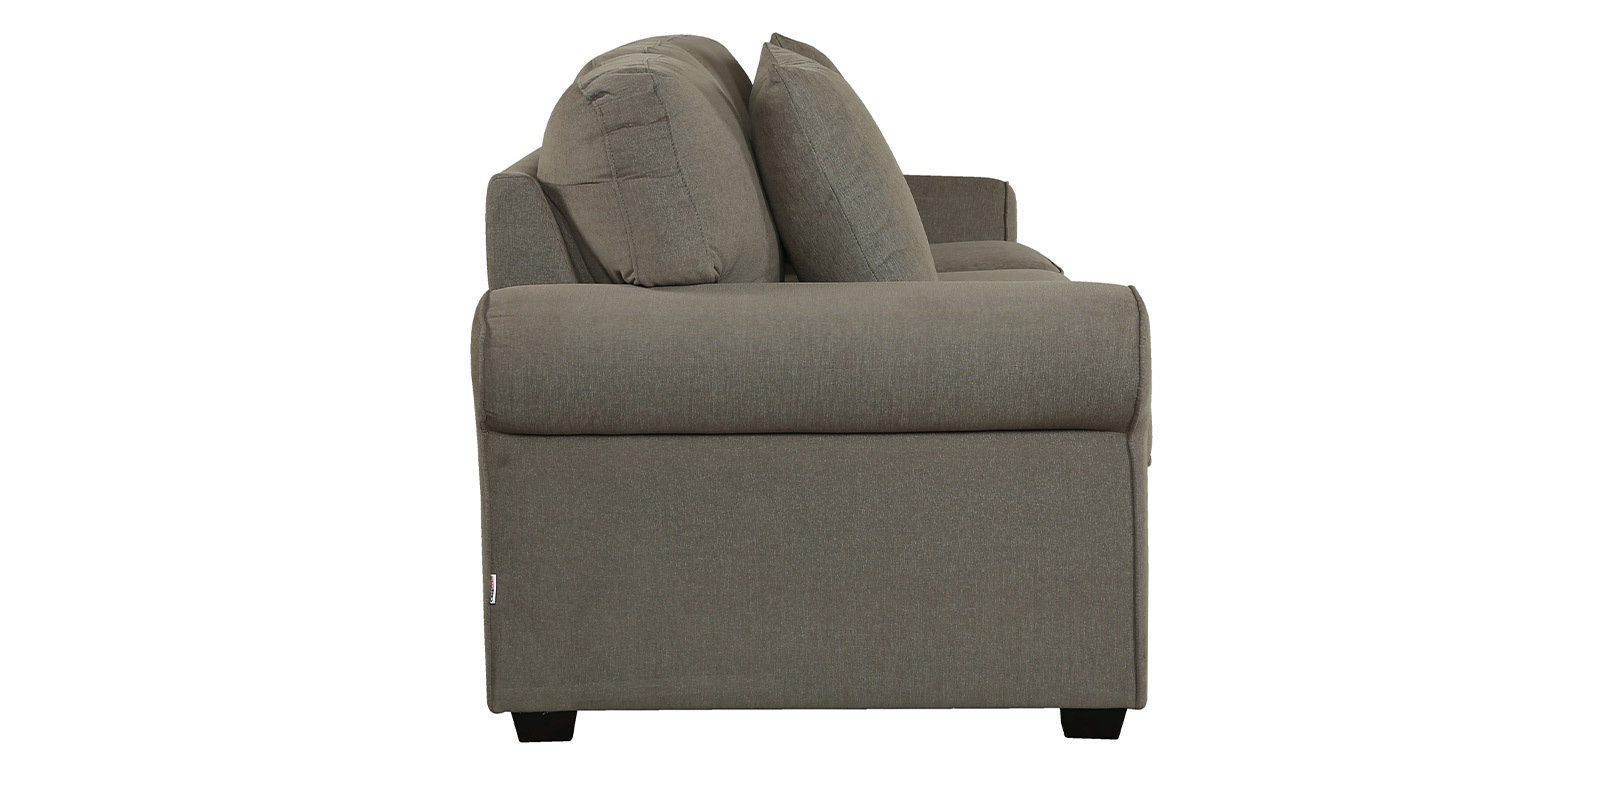Madeira Three Seater Sofa in Sandy Brown Colour by CasaCraft: (469, 28, 1154, 742)
